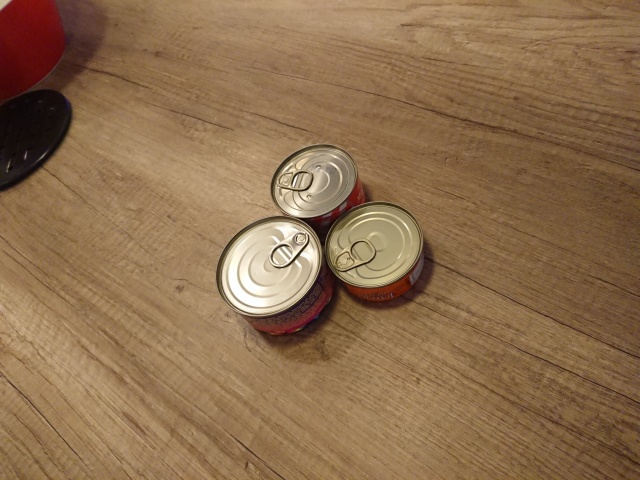Gavrilovic Pork Liver Pate 100g: (322, 198, 426, 305)
Giana Tuna Salad Mexico 185g: (213, 213, 338, 339)
Podravka Luncheon Meat 150g: (267, 141, 370, 243)
